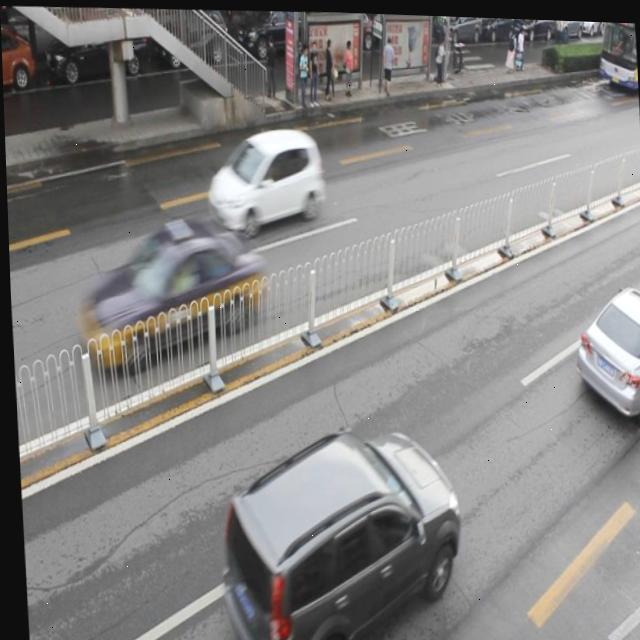car: (213, 418, 459, 640), (73, 212, 264, 375), (202, 121, 324, 233), (570, 277, 640, 411), (40, 18, 147, 87), (150, 6, 227, 68), (231, 7, 307, 62), (1, 25, 36, 99)
van: (596, 17, 637, 82)
